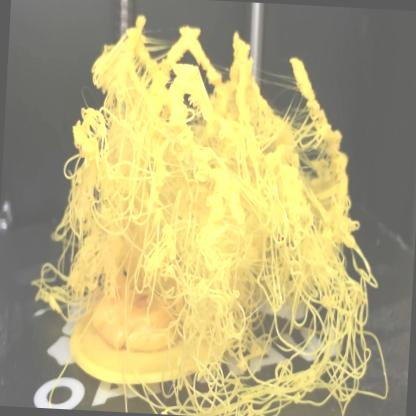fail: (25, 7, 408, 416)
